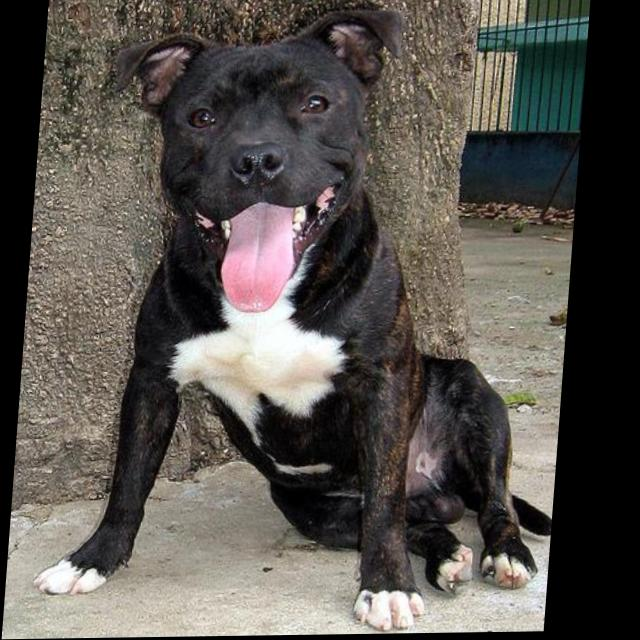amstaff: (39, 5, 591, 637)
